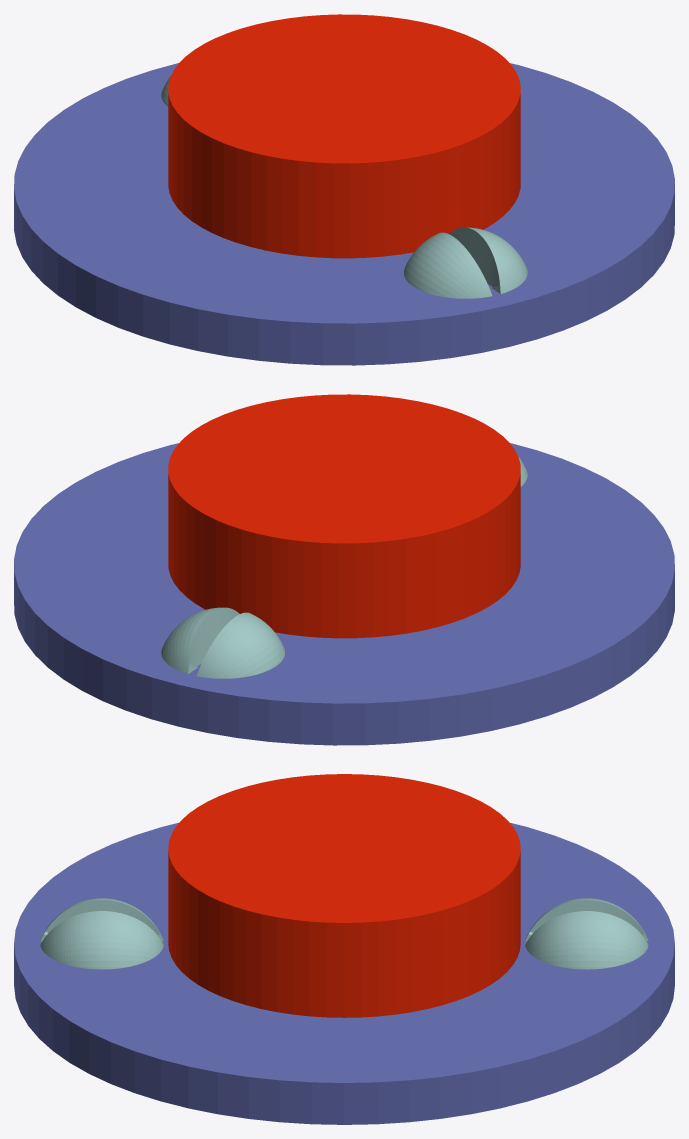
File: knopka.fbx
The picture shows the model from 3 angles, top to bottom: view 1: azimuth 30°, elevation 25°; view 2: azimuth 150°, elevation 25°; view 3: azimuth 270°, elevation 25°; orthographic projection.
Visible parts, largest first — view 1: Цилиндр, Цилиндр.001, Сфера; view 2: Цилиндр, Цилиндр.001, Сфера.001; view 3: Цилиндр, Цилиндр.001, Сфера, Сфера.001.
Part boxes in pixels (box(x1,y1,x2,y2)): Цилиндр: box(14, 63, 674, 365); Цилиндр.001: box(168, 14, 520, 258); Сфера: box(404, 227, 527, 298); Цилиндр: box(14, 443, 674, 745); Цилиндр.001: box(168, 394, 520, 638); Сфера.001: box(161, 607, 284, 678); Цилиндр: box(14, 822, 674, 1124); Цилиндр.001: box(168, 774, 520, 1017); Сфера: box(40, 898, 163, 969); Сфера.001: box(525, 898, 648, 969).
Size of the model in its own units: 30 by 6.85 by 30.
